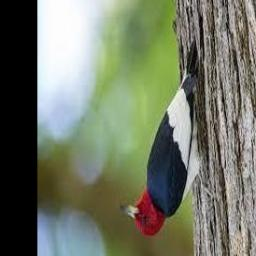Woodpecker: (120, 41, 213, 238)
